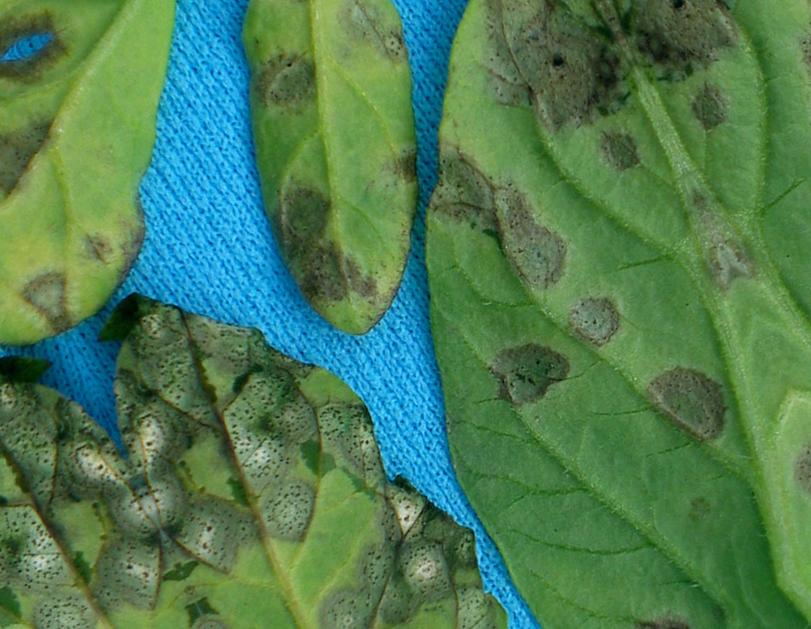Tomato Septoria leaf spot: (216, 0, 811, 629), (52, 183, 552, 629), (145, 0, 528, 366), (0, 0, 313, 324)
